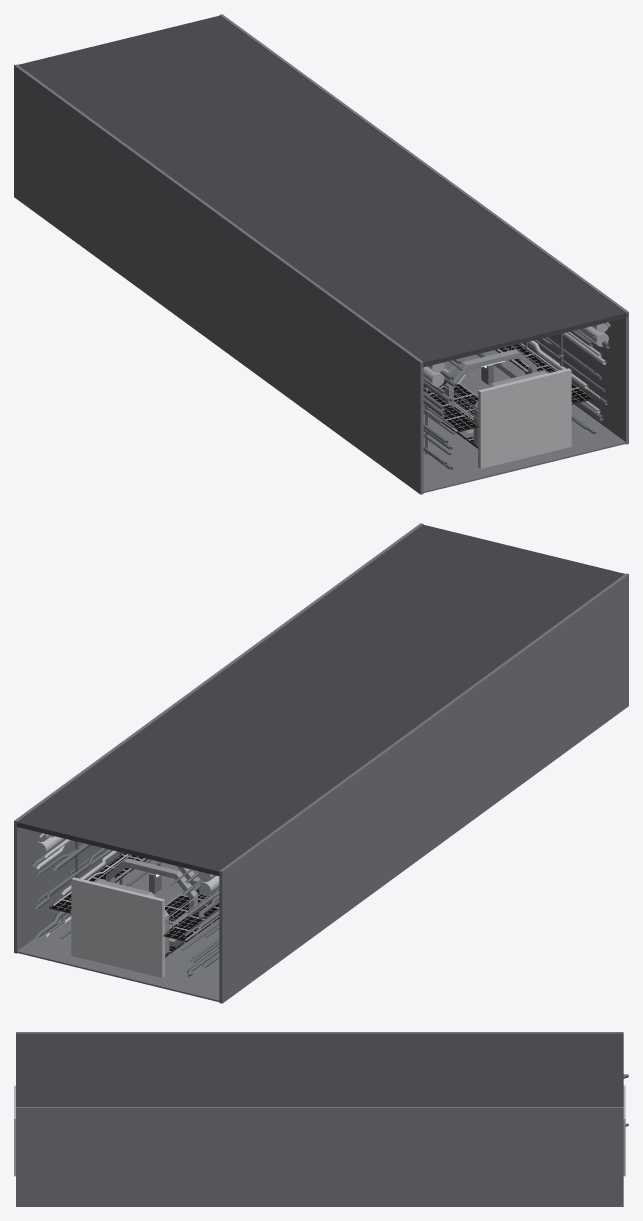
Rendered from interior_nave.fbx.
3 renders of one model, top to bottom at view 1: azimuth 30°, elevation 25°; view 2: azimuth 150°, elevation 25°; view 3: azimuth 270°, elevation 25°, orthographic. The views are drawn at different scales.
Visible parts, largest first — view 1: Techo, Metal_Pared, Metal_Puerta, Metal_Tubo, Rejilla, Metal_Marco, Tubo_Aislado; view 2: Techo, Metal_Pared, Metal_Puerta, Metal_Tubo, Rejilla, Metal_Marco, Tubo_Aislado; view 3: Metal_Pared, Techo, Metal_Puerta.
Part boxes in pixels (bbox=[...]): Techo: bbox=[18, 15, 627, 367]; Metal_Pared: bbox=[14, 14, 628, 494]; Metal_Puerta: bbox=[478, 368, 571, 468]; Metal_Tubo: bbox=[423, 328, 610, 470]; Rejilla: bbox=[423, 344, 593, 448]; Metal_Marco: bbox=[424, 345, 563, 445]; Tubo_Aislado: bbox=[423, 322, 610, 413]; Techo: bbox=[17, 524, 624, 875]; Metal_Pared: bbox=[14, 523, 628, 1003]; Metal_Puerta: bbox=[71, 877, 164, 977]; Metal_Tubo: bbox=[32, 835, 219, 976]; Rejilla: bbox=[49, 853, 219, 957]; Metal_Marco: bbox=[93, 854, 219, 954]; Tubo_Aislado: bbox=[34, 831, 219, 936]; Metal_Pared: bbox=[16, 1032, 623, 1206]; Techo: bbox=[16, 1033, 623, 1106]; Metal_Puerta: bbox=[14, 1085, 625, 1176].
Bounding box in the file's own units: 14.2 × 8.6 × 48.56.
Materials: 10 (1 with a texture image).
